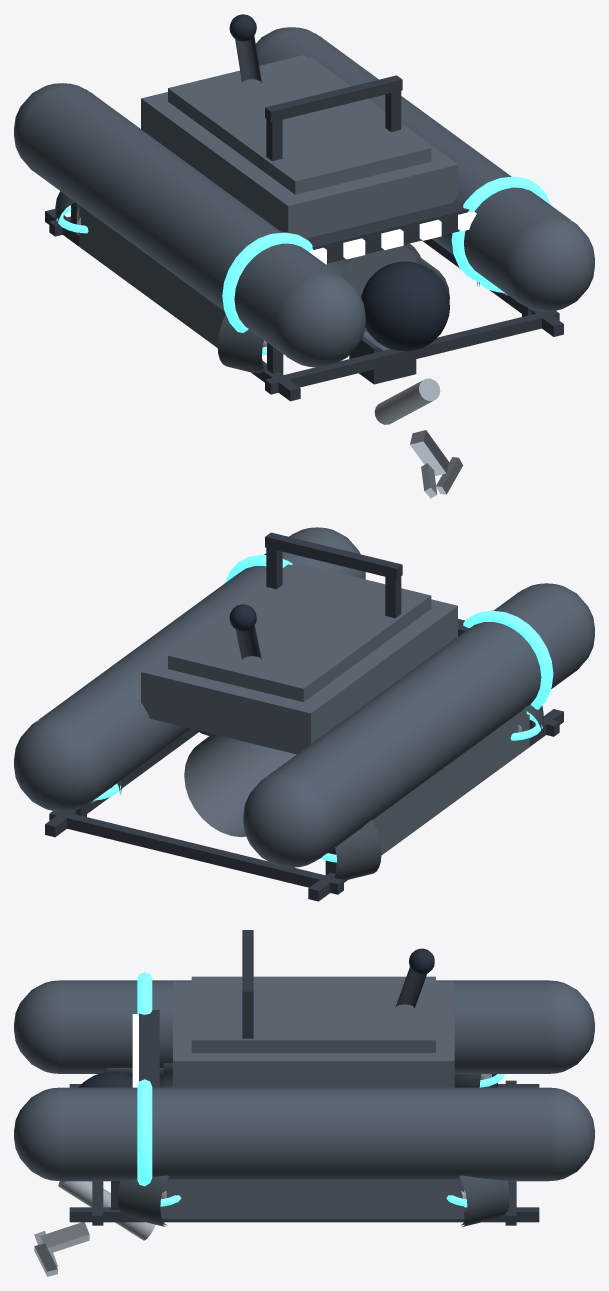
The model's file is rov.glb.
3 renders of one model, top to bottom at view 1: azimuth 30°, elevation 25°; view 2: azimuth 150°, elevation 25°; view 3: azimuth 270°, elevation 25°, orthographic. The views are drawn at different scales.
Parts seen in each view (by area): view 1: ROV; view 2: ROV; view 3: ROV.
Part boxes in pixels (x1=…): ROV: x1=14, y1=14, x2=594, y2=498; ROV: x1=14, y1=527, x2=594, y2=901; ROV: x1=14, y1=930, x2=594, y2=1276.
Bounding box in the file's own units: 0.388 × 0.3801 × 0.6185.
